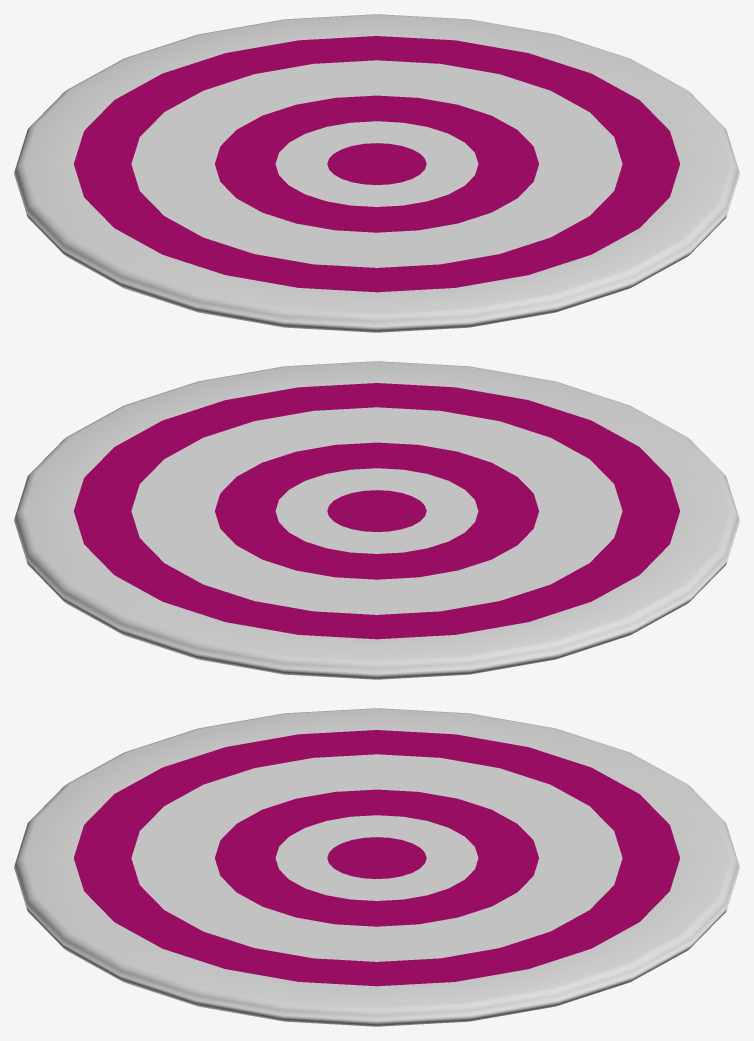
Rendered from tilting platformB.fbx.
3 views of the same model, one above another, from view 1: azimuth 30°, elevation 25°; view 2: azimuth 150°, elevation 25°; view 3: azimuth 270°, elevation 25° (orthographic).
Parts seen in each view (by area): view 1: Cylinder; view 2: Cylinder; view 3: Cylinder.
Part boxes in pixels (bbox=[...]): Cylinder: bbox=[14, 14, 739, 332]; Cylinder: bbox=[14, 361, 739, 679]; Cylinder: bbox=[14, 708, 739, 1026].
Bounding box in the file's own units: 176 × 5 × 176.
